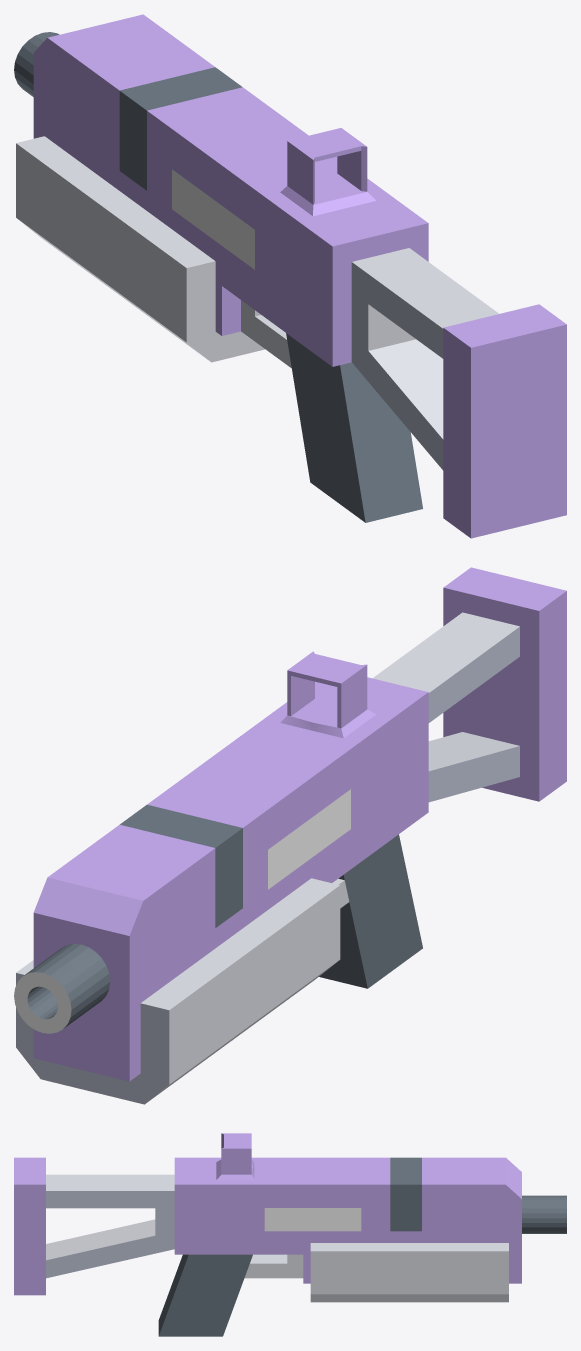
Rendered from blaster.fbx.
3 views of the same model, one above another, from view 1: azimuth 30°, elevation 25°; view 2: azimuth 150°, elevation 25°; view 3: azimuth 270°, elevation 25° (orthographic). The views are drawn at different scales.
Visible parts, largest first — view 1: blasterD; view 2: blasterD; view 3: blasterD.
Boxes of the visible parts, <box> form: blasterD: <box>14,14,566,538</box>; blasterD: <box>14,567,566,1104</box>; blasterD: <box>14,1133,566,1336</box>.
Bounding box in the file's own units: 16 × 32.18 × 86.
